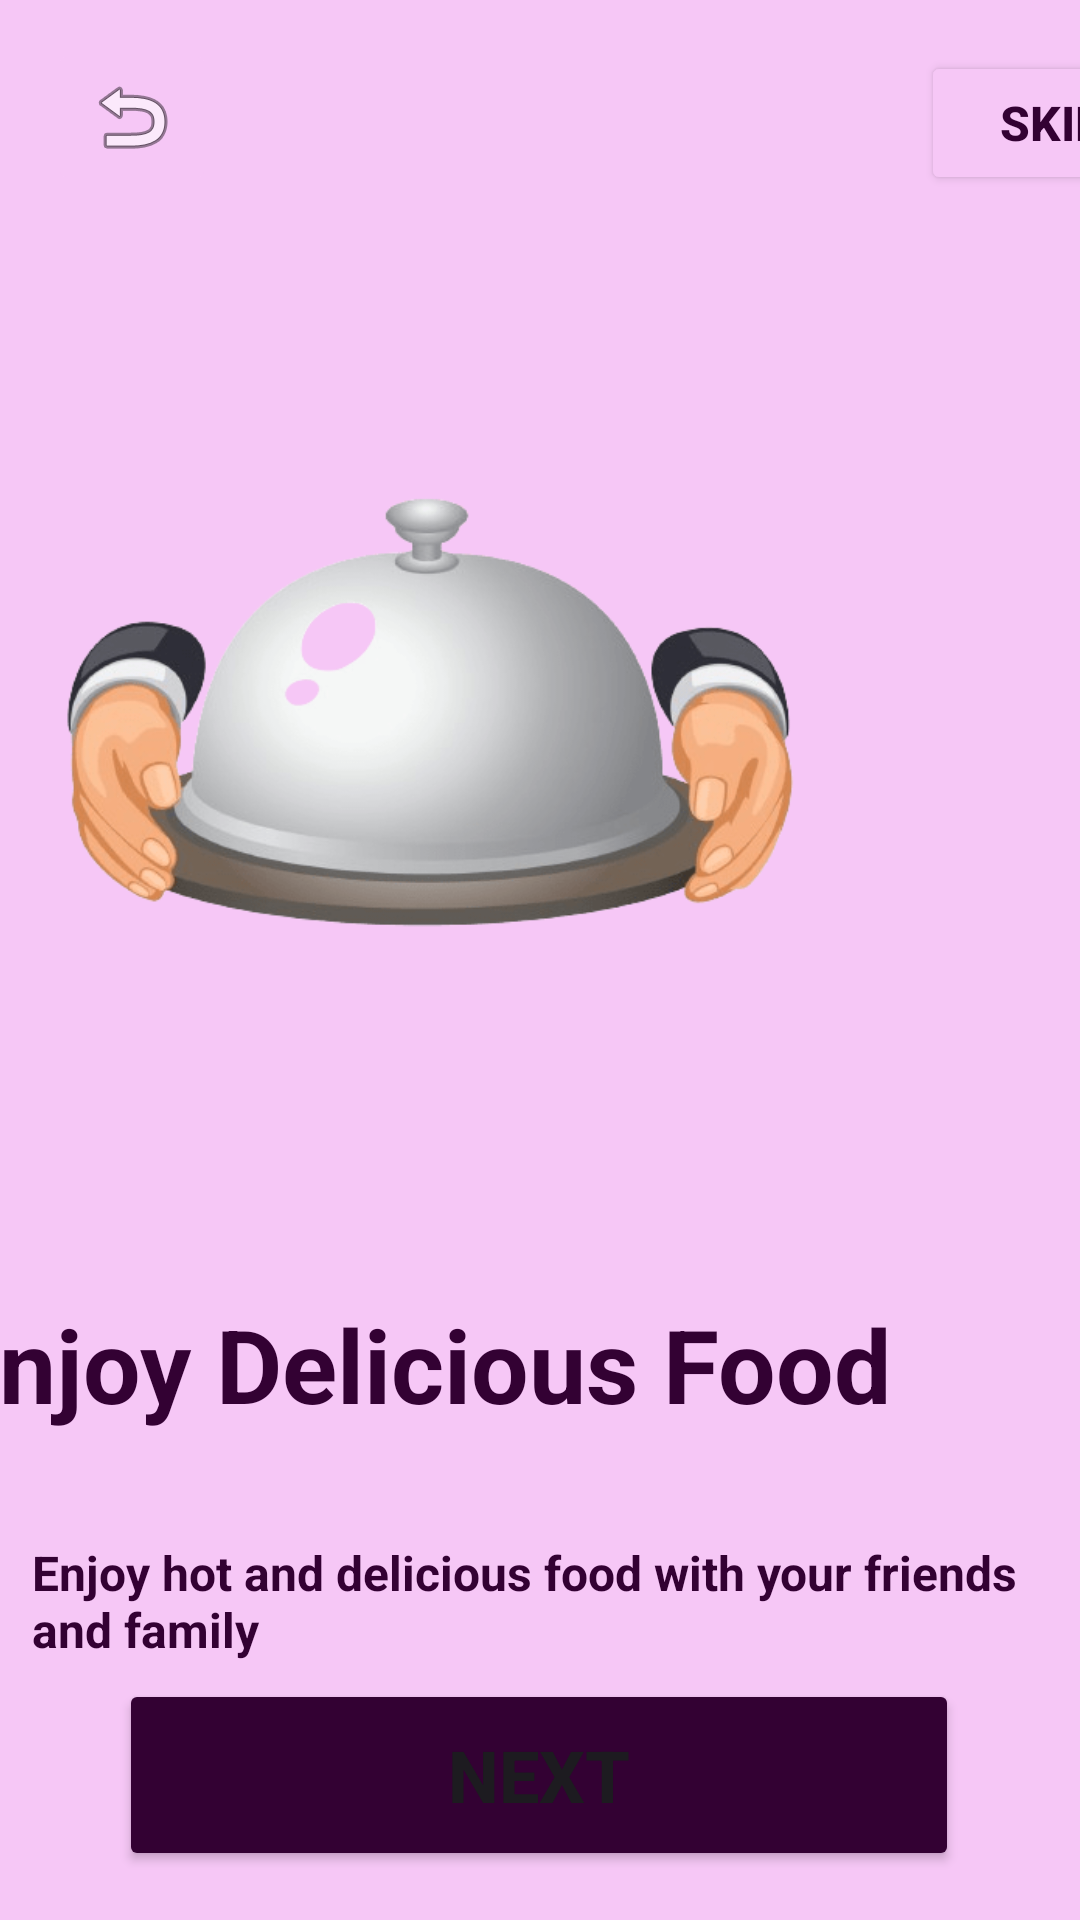

Point at icon controls on the screen. Image size 1080x1920, points as (x,y).
revert: (133,117)
